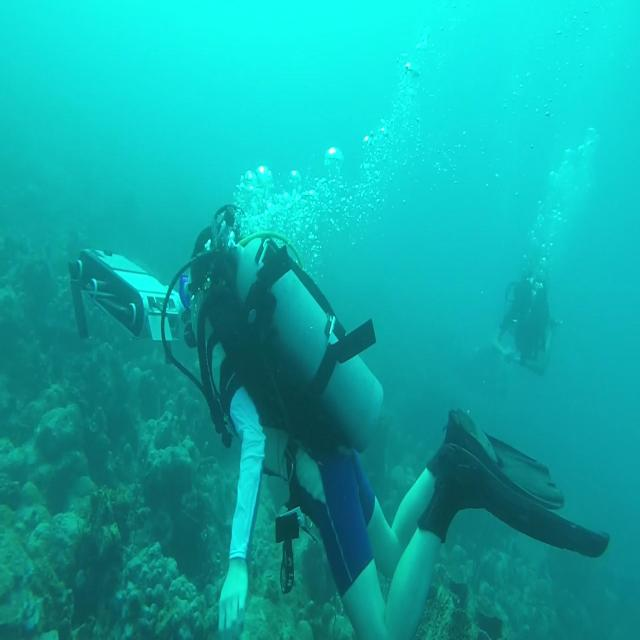human: (68, 208, 610, 638), (496, 272, 555, 374)
